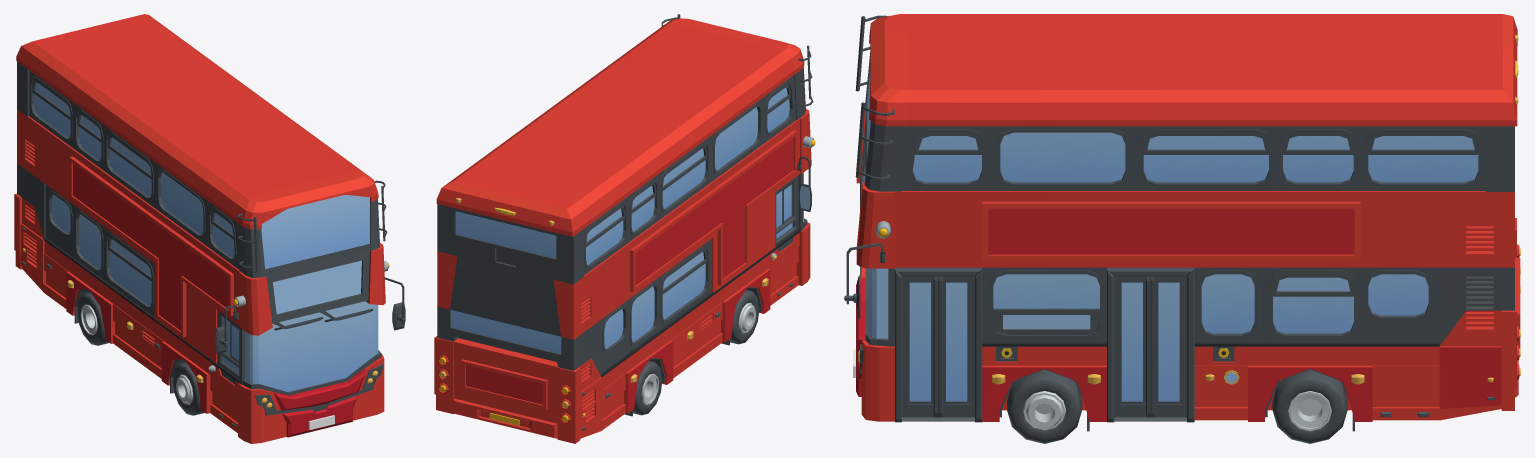
File: England_Bus.fbx
The picture shows the model from 3 angles, left to right: view 1: azimuth 30°, elevation 25°; view 2: azimuth 150°, elevation 25°; view 3: azimuth 270°, elevation 25°; orthographic projection. The views are drawn at different scales.
Visible parts, largest first — view 1: England_Bus, England_Bus_Wheel, England_Bus_Wheel1; view 2: England_Bus, England_Bus_Wheel, England_Bus_Wheel1; view 3: England_Bus, England_Bus_Wheel, England_Bus_Wheel1.
Boxes of the visible parts, bbox=[...] form: England_Bus: bbox=[14, 14, 405, 443]; England_Bus_Wheel: bbox=[77, 292, 108, 345]; England_Bus_Wheel1: bbox=[172, 362, 204, 415]; England_Bus: bbox=[434, 14, 815, 443]; England_Bus_Wheel: bbox=[633, 360, 662, 415]; England_Bus_Wheel1: bbox=[730, 289, 759, 344]; England_Bus: bbox=[844, 14, 1520, 431]; England_Bus_Wheel: bbox=[1272, 369, 1347, 443]; England_Bus_Wheel1: bbox=[1007, 369, 1082, 443].
Bounding box in the file's own units: 0.6562 × 0.9161 × 1.62.
